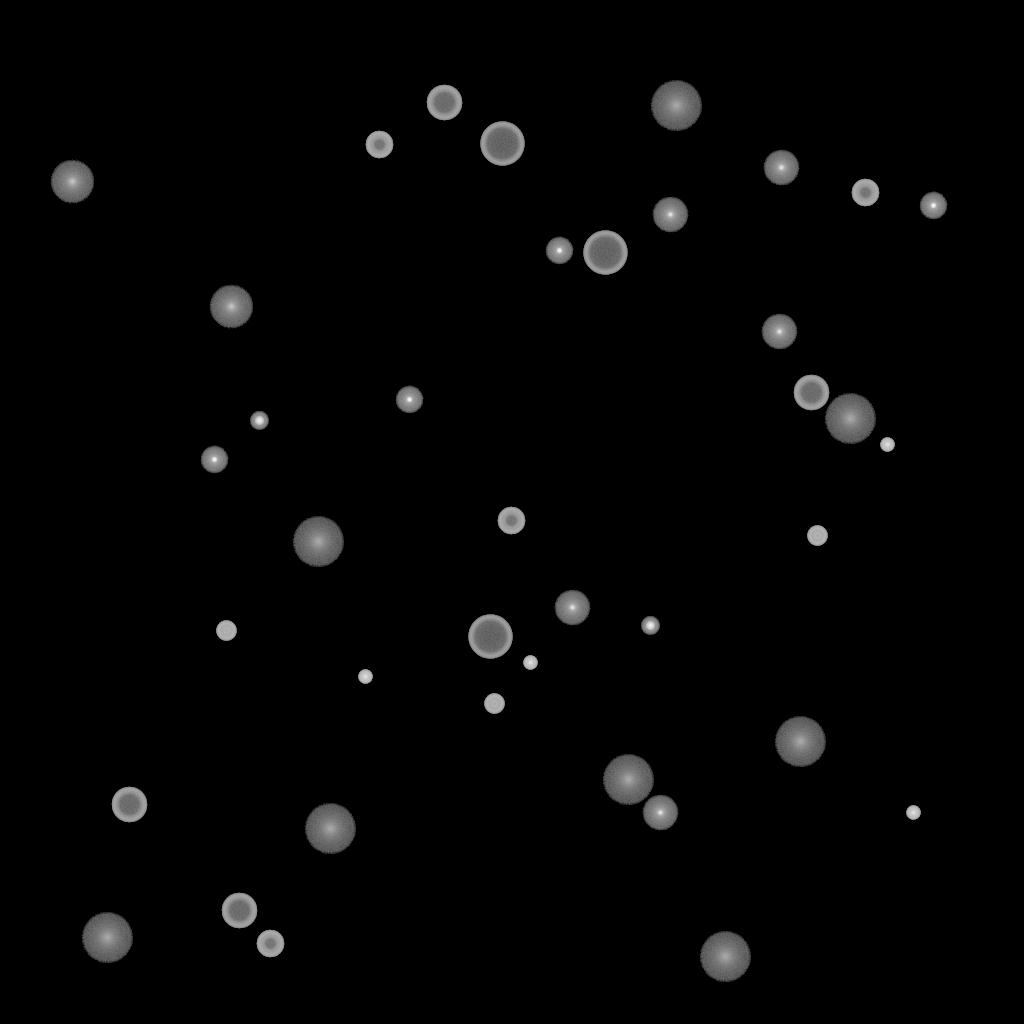depth:-10: (545, 237, 573, 265), (919, 192, 947, 220), (395, 386, 423, 414), (200, 446, 228, 474)
depth:-20: (641, 617, 659, 635), (250, 412, 268, 430)
depth:-30: (880, 438, 894, 452), (358, 670, 372, 684), (906, 806, 920, 820), (523, 656, 537, 670)
depth:-40: (216, 621, 236, 641), (484, 694, 504, 714), (807, 526, 827, 546)
depth:-50: (365, 131, 393, 159), (851, 179, 879, 207), (256, 930, 284, 958), (497, 507, 525, 535)
depth:-60: (426, 85, 462, 121), (221, 893, 257, 929), (111, 787, 147, 823), (793, 375, 829, 411)
depth:-70: (583, 231, 627, 275), (468, 615, 512, 659), (480, 122, 524, 166)
depth:0: (652, 197, 688, 233), (761, 314, 797, 350), (554, 590, 590, 626), (763, 150, 799, 186), (642, 795, 678, 831)
depth:10: (209, 285, 253, 329), (50, 160, 94, 204)
depth:20: (81, 913, 133, 963), (304, 804, 356, 854), (824, 394, 876, 444), (292, 517, 344, 567), (650, 81, 702, 131), (602, 755, 654, 805), (774, 717, 826, 767), (699, 932, 751, 982)
